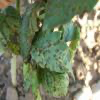Tomato leaf bacterial spot: (22, 33, 75, 81), (18, 1, 45, 64), (1, 5, 26, 55)
